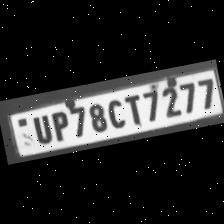2: (156, 83, 182, 119)
7: (64, 103, 90, 139), (192, 75, 218, 111), (138, 87, 162, 124), (175, 80, 200, 115)
8: (84, 99, 110, 135)
C: (101, 95, 127, 131)
P: (46, 108, 72, 142)
T: (122, 91, 146, 127)
U: (27, 111, 54, 146)
